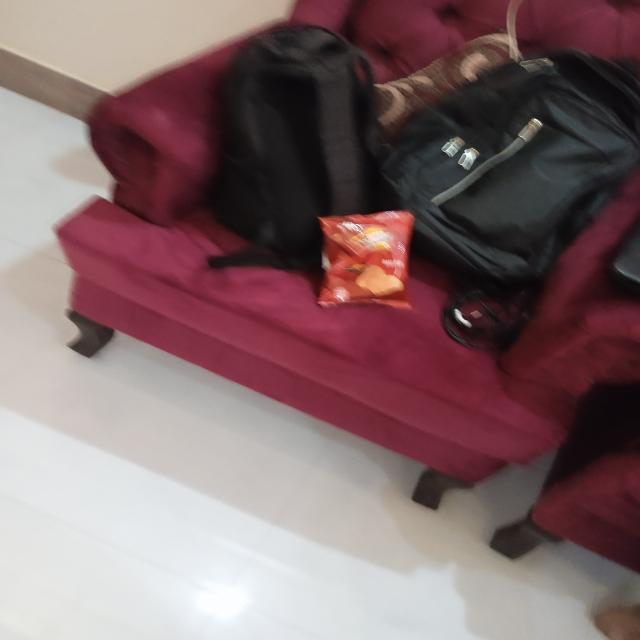Plastic: (314, 204, 422, 314)
